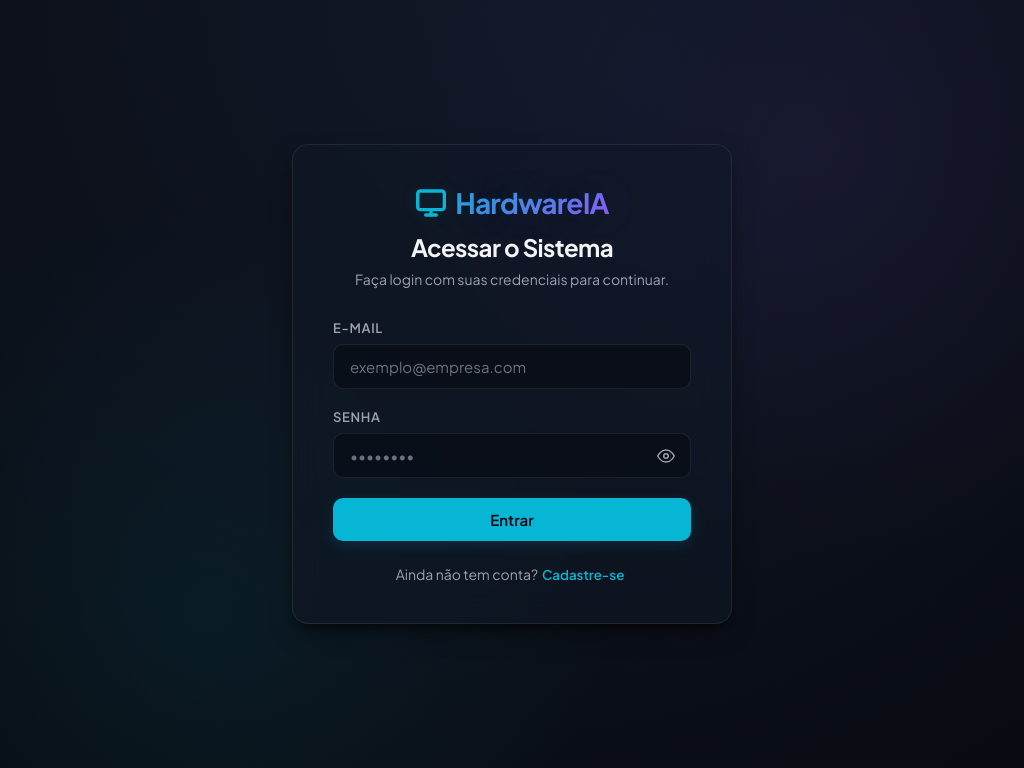
Test case: Sistema de Autenticação - Fluxos de Cadastro, Login, Logout e Verificação › Cadastro com senha fraca (sem número) deve exibir erro de validação client-side
The image size is (1024, 768).
Click the button "Cadastre-se" at (583, 574), box [538,566,628,583]
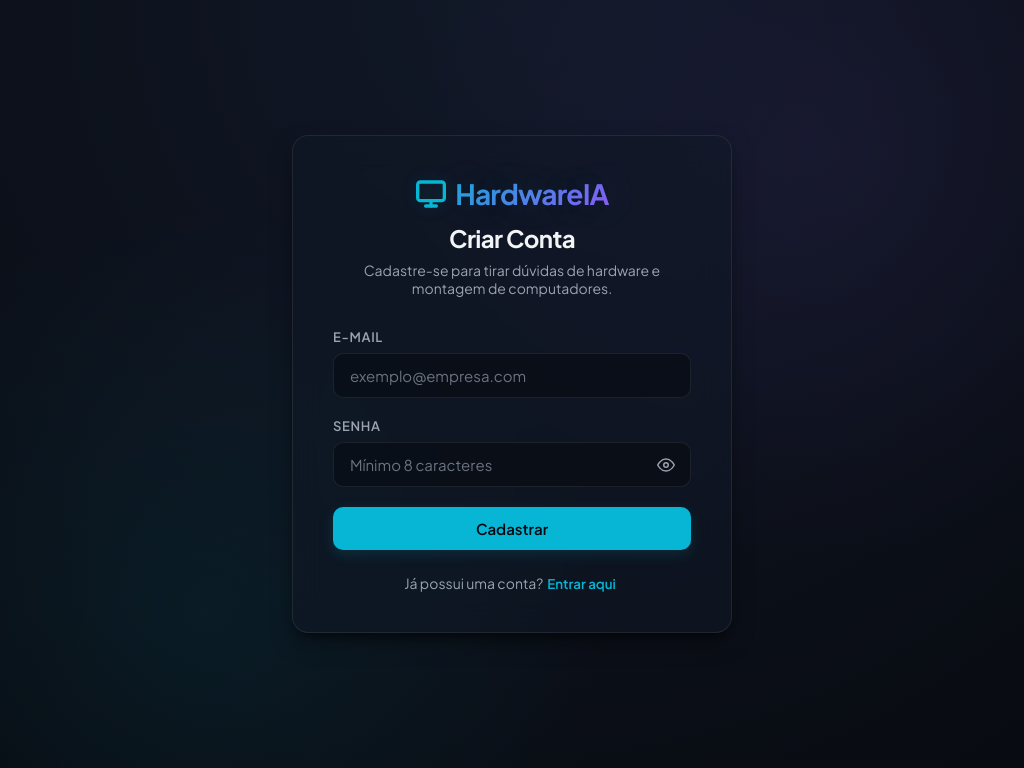
Type "teste@empresa.com" into the field labelled "E-mail" at (512, 376), box [333,353,691,398]
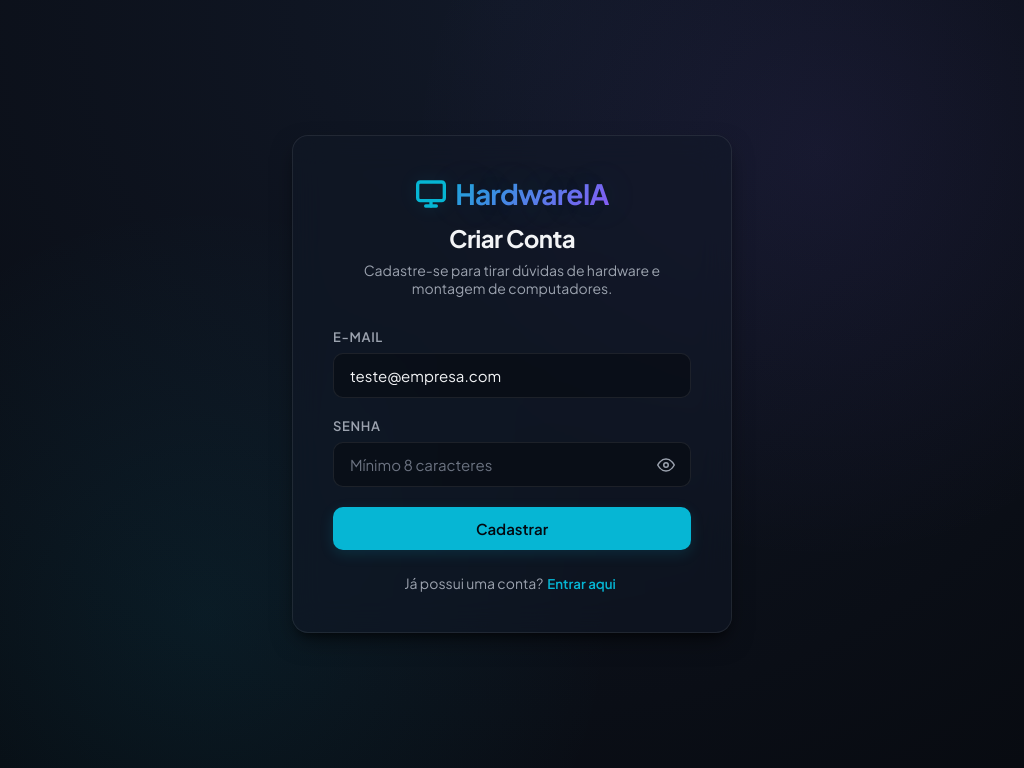
Type "SemNumero" into the password field labelled "Senha" at (512, 464), box [333,442,691,487]
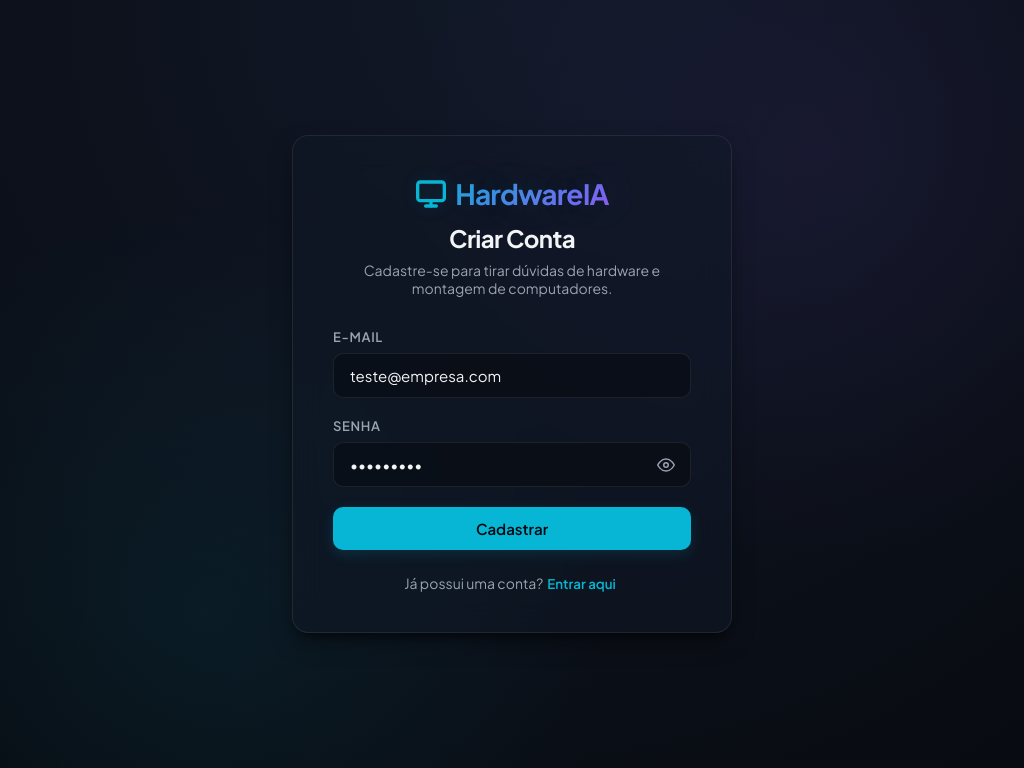
Click the button "Cadastrar" at (512, 528), box [333,507,691,550]
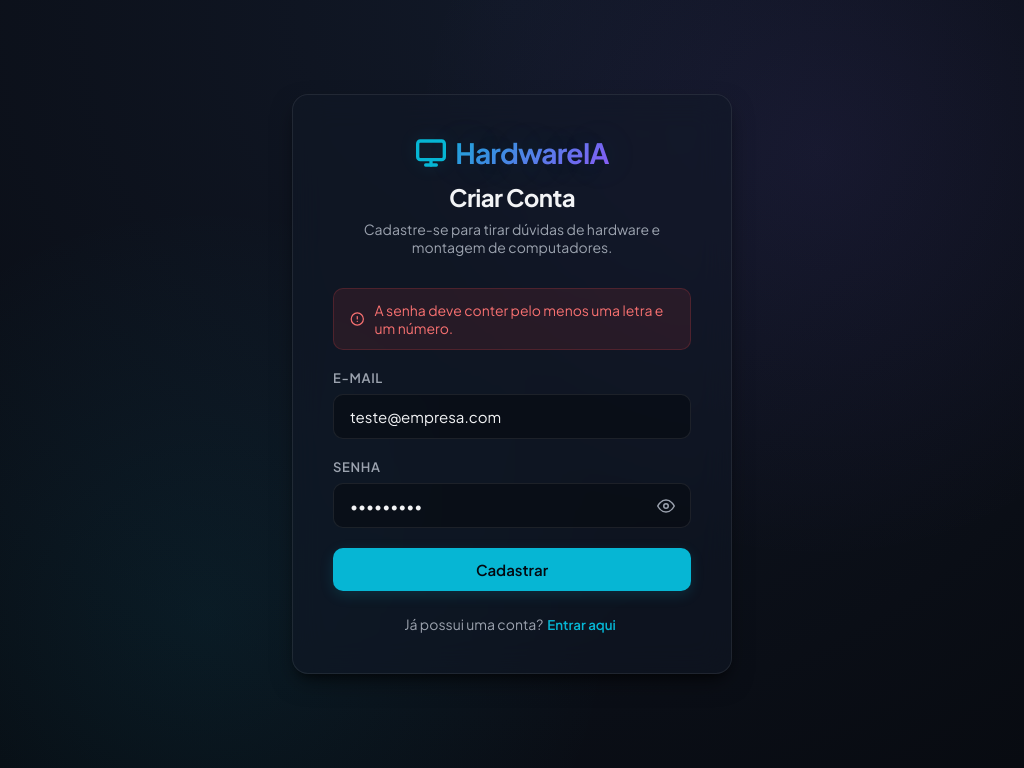
Result: the text "A senha deve conter pelo menos uma letra e um número." is shown at [375,301,674,337]
